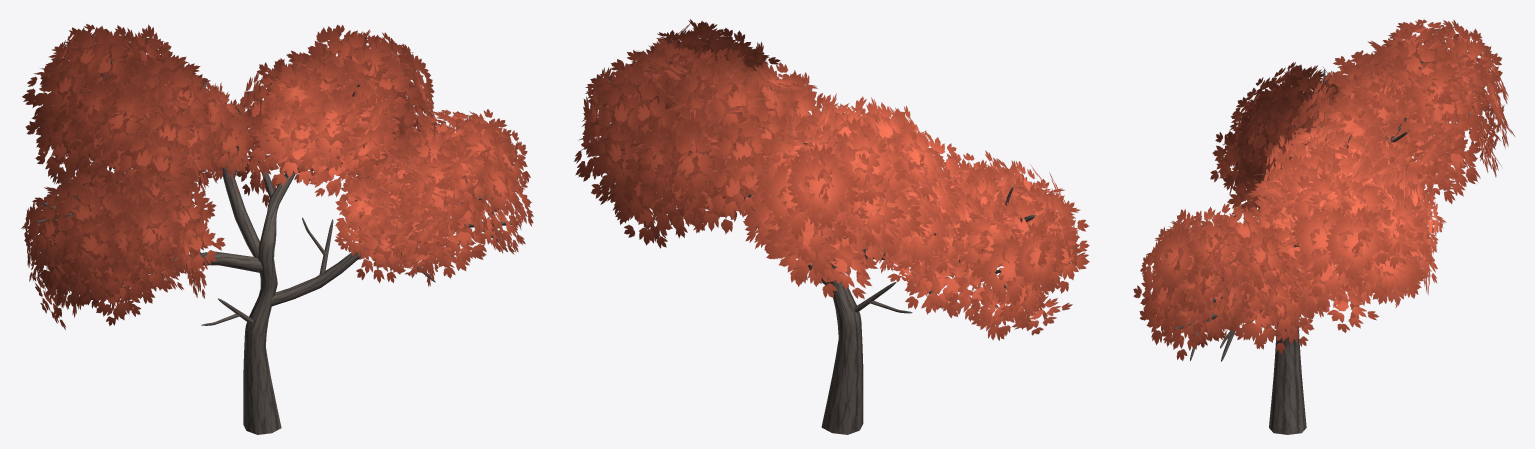
Rendered from MapleTree_3.glb.
The picture shows the model from 3 angles, left to right: view 1: azimuth 30°, elevation 25°; view 2: azimuth 150°, elevation 25°; view 3: azimuth 270°, elevation 25°; orthographic projection. The views are drawn at different scales.
Parts seen in each view (by area): view 1: MapleTree_3; view 2: MapleTree_3; view 3: MapleTree_3.
Boxes of the visible parts, x1,y1,x2,y2 form: MapleTree_3: [21, 24, 533, 434]; MapleTree_3: [574, 19, 1089, 434]; MapleTree_3: [1133, 19, 1514, 434].
Size of the model in its own units: 8.98 by 6.99 by 6.61.
2 materials, 2 textured.
